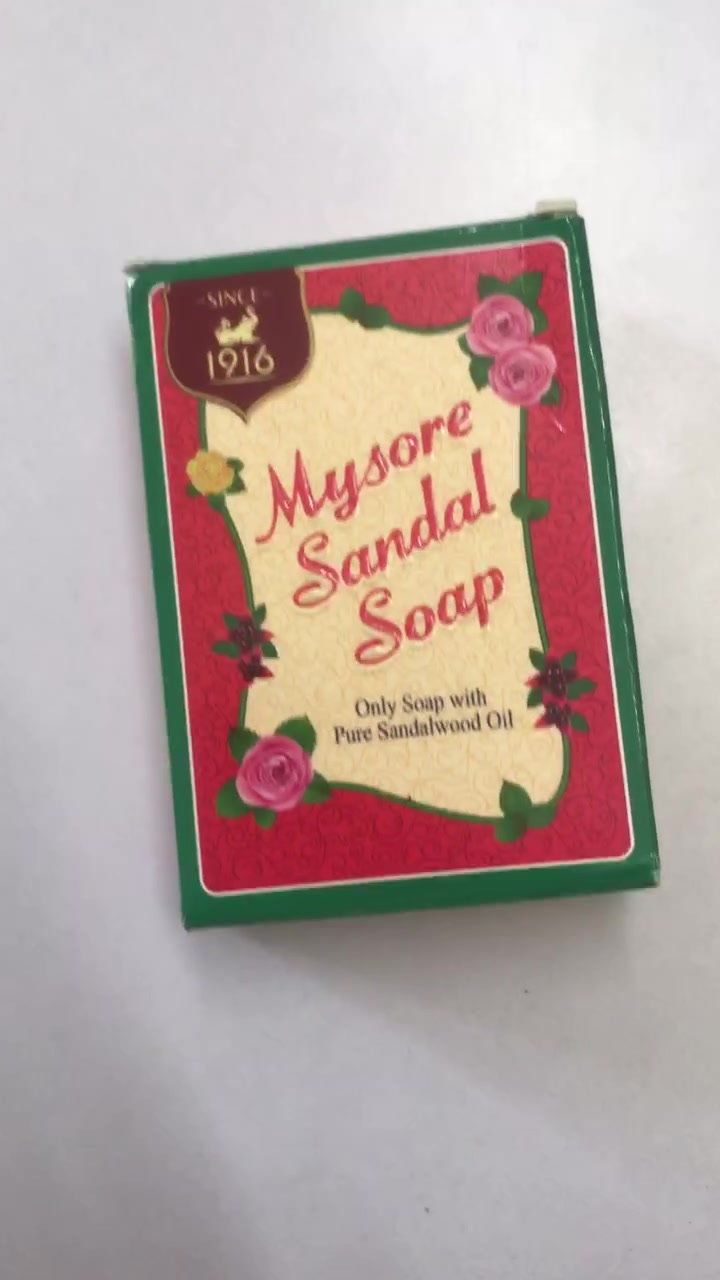mysore sandal soap: (120, 220, 655, 937)
